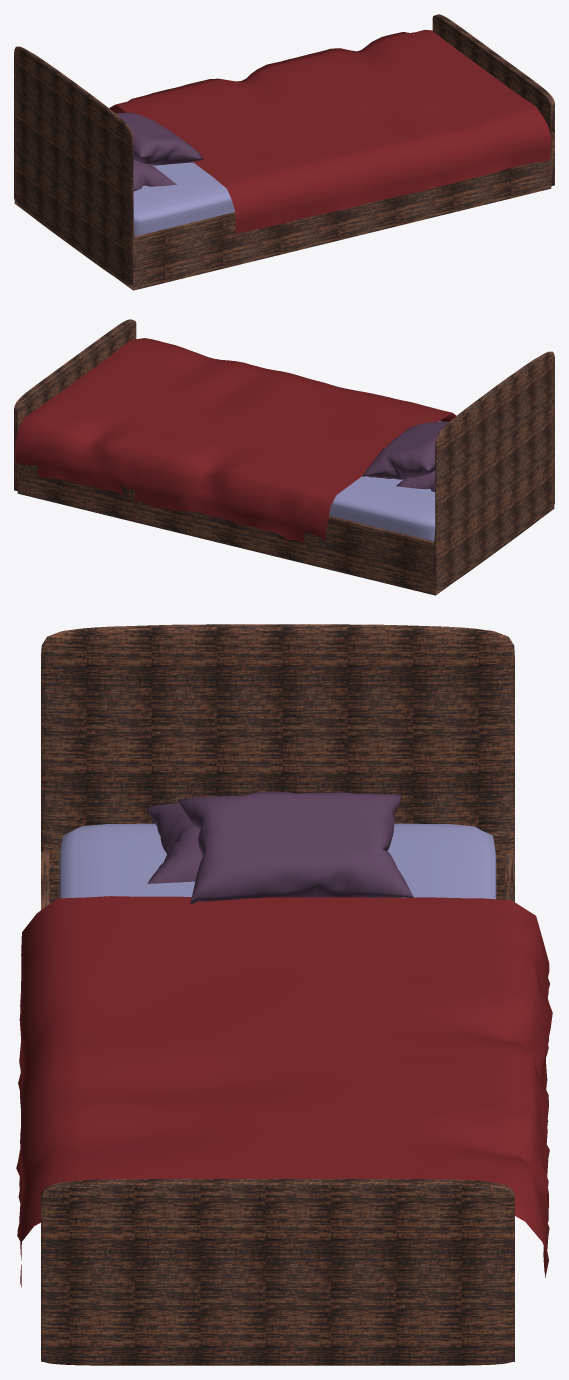
File: bed.fbx
3 renders of one model, top to bottom at view 1: azimuth 30°, elevation 25°; view 2: azimuth 150°, elevation 25°; view 3: azimuth 270°, elevation 25°, orthographic. The views are drawn at different scales.
Visible parts, largest first — view 1: bedsheet, bed, mattress, pillow 2, pillow1; view 2: bedsheet, bed, mattress, pillow 2, pillow1; view 3: bed, bedsheet, pillow 2, mattress, pillow1.
Boxes of the visible parts, x1,y1,x2,y2 form: bedsheet: (109,29,551,233); bed: (14,14,554,290); mattress: (133,162,235,236); pillow 2: (116,112,203,165); pillow1: (133,159,176,191); bedsheet: (14,338,456,544); bed: (14,319,554,595); mattress: (329,421,441,541); pillow 2: (362,421,449,479); pillow1: (396,470,435,491); bed: (41,624,514,1365); bedsheet: (16,896,552,1287); pillow 2: (178,791,413,903); mattress: (59,823,496,899); pillow1: (146,803,202,883).
Size of the model in its own units: 415 by 153 by 226.
Materials: 4 (1 with a texture image).
